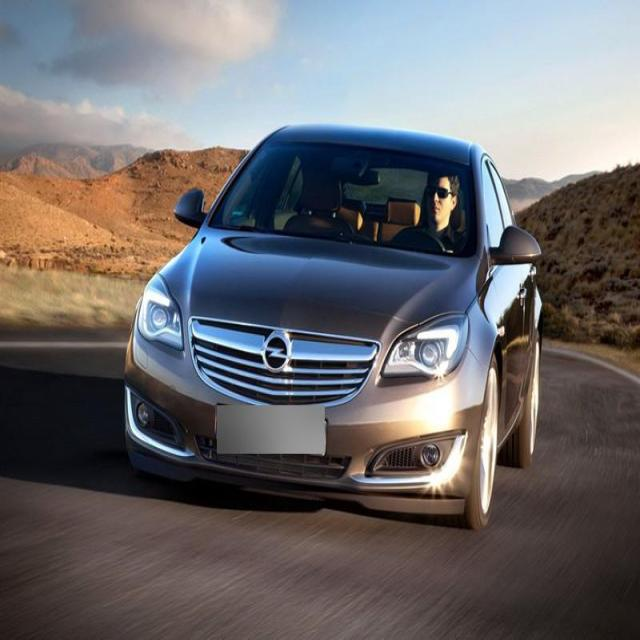front_bumper: (122, 325, 490, 519)
front_glass: (207, 138, 480, 260)
front_left_side_light: (380, 309, 470, 382)
front_left_side_mirror: (489, 225, 542, 268)
front_right_side_light: (137, 270, 186, 353)
front_right_side_mirror: (173, 185, 209, 230)
wheel: (457, 353, 501, 530), (503, 329, 541, 468)
